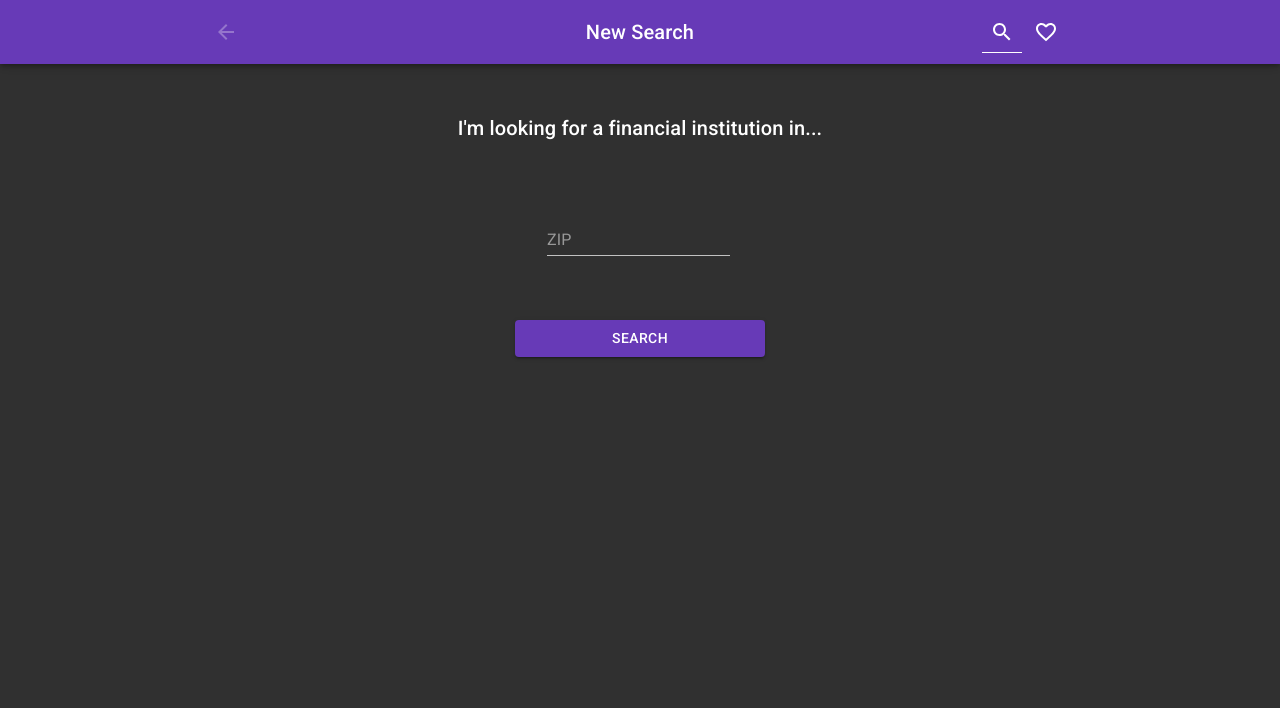
Test case: Institution Page › Renders financial institution information
The width and height of the screenshot is (1280, 708).
Type "90210" into the field with placeholder "ZIP" at [638, 240], box [547,224,730,256]
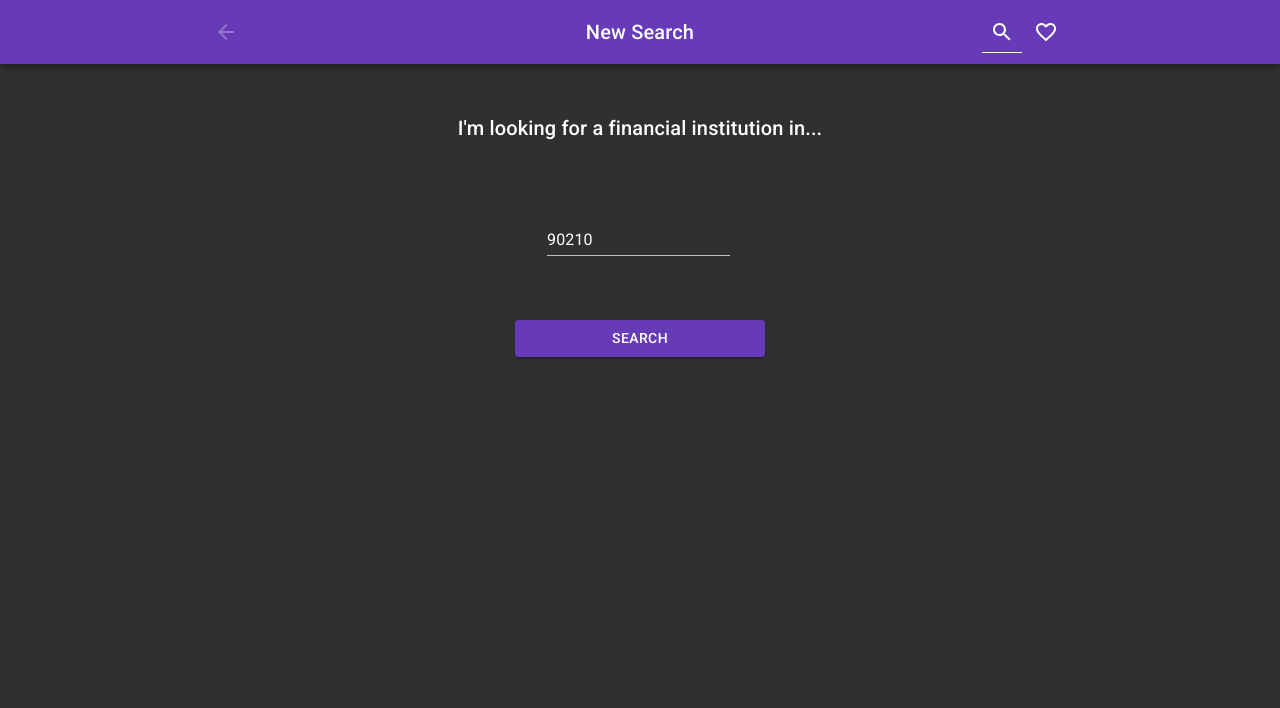
Click the button "Search" at [640, 338], box [515,320,765,356]
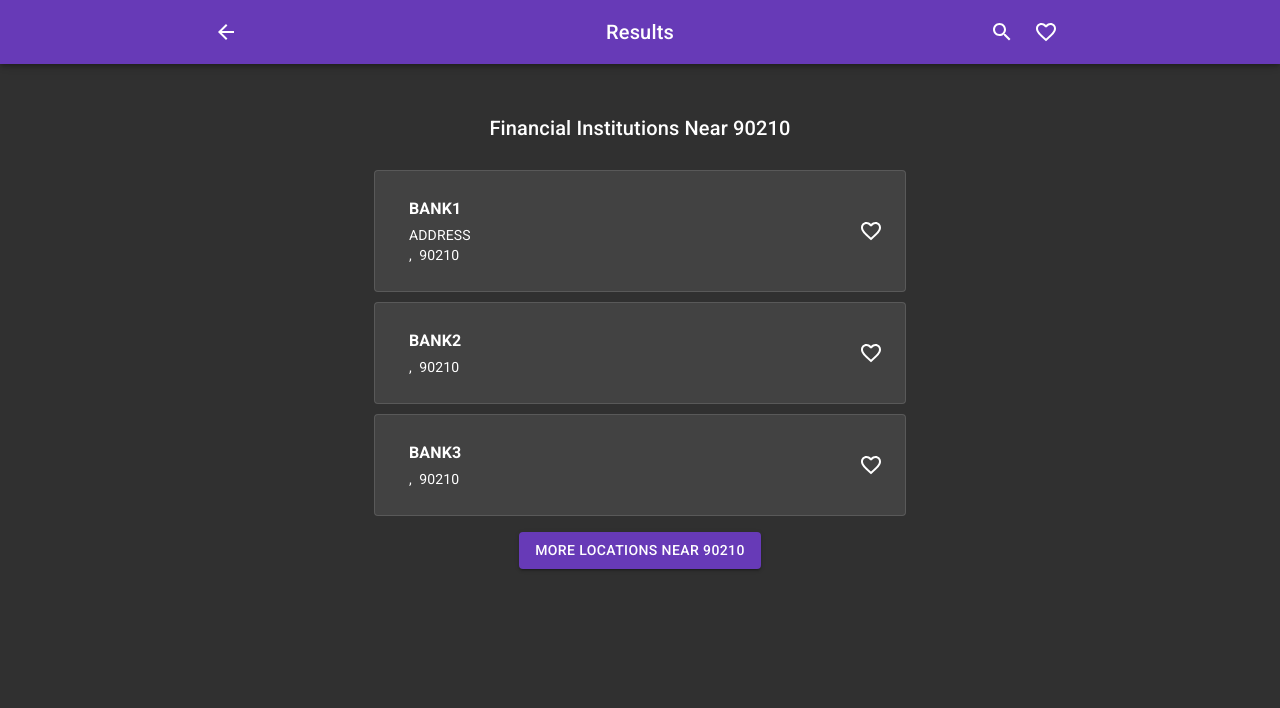
Click the text "BANK1" at [435, 208], box [409,199,461,218]
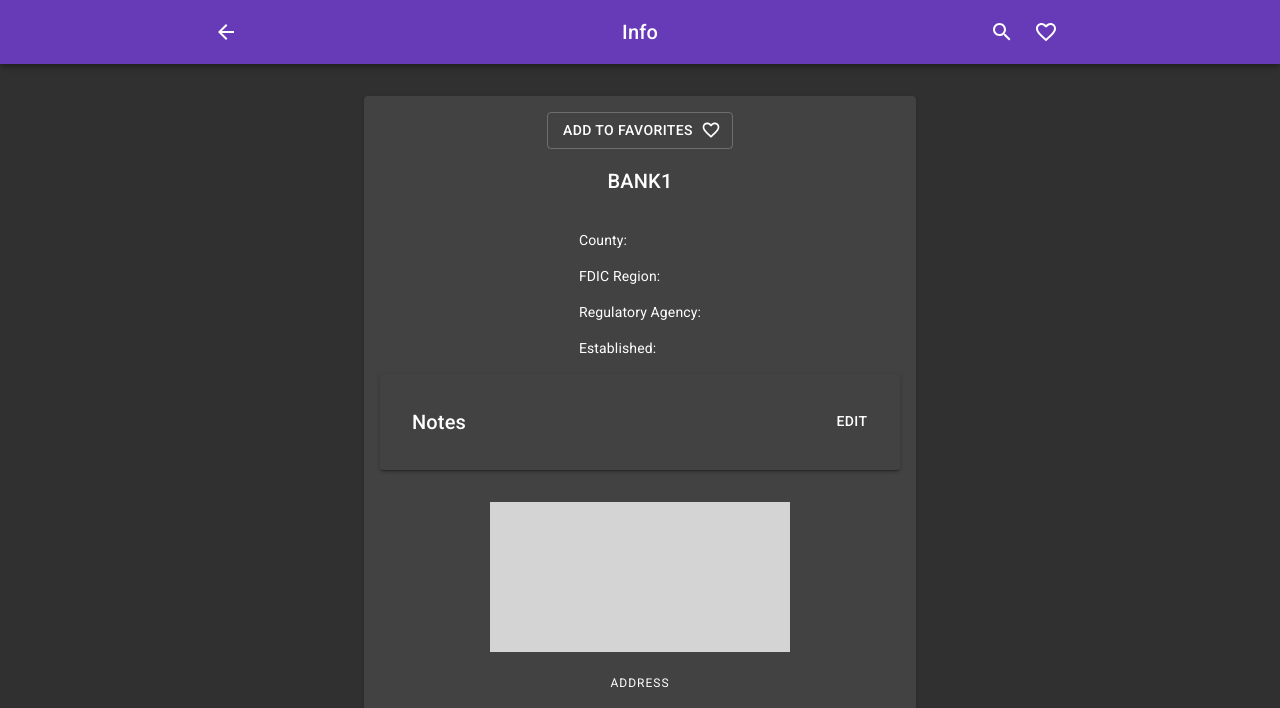
Check: the text "ADDRESS" is shown, box [610,676,670,690]
Check: the heading "BANK1" is shown, box [608,168,672,192]
